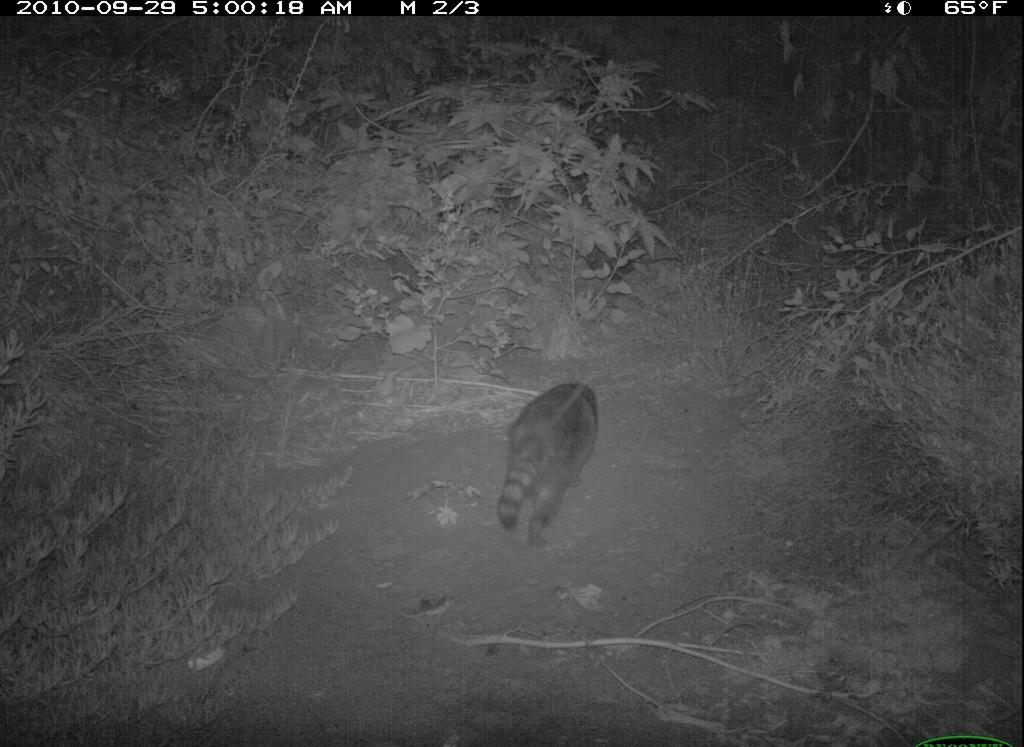raccoon: (496, 363, 607, 568)
